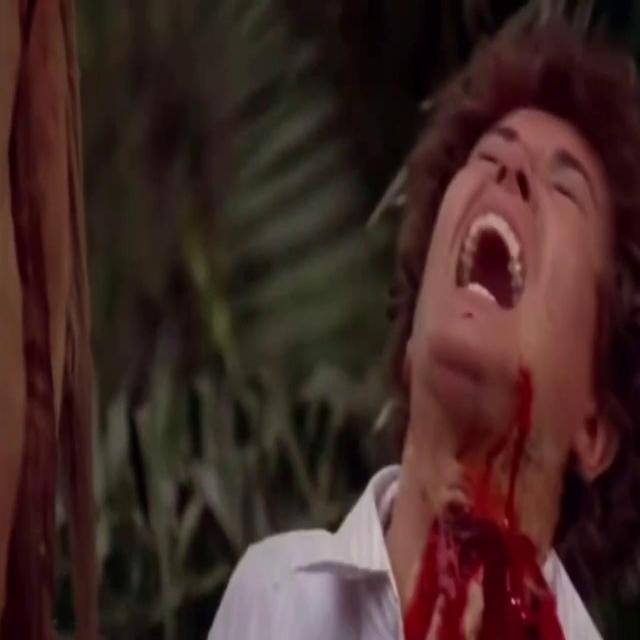flood: (392, 435, 569, 640)
